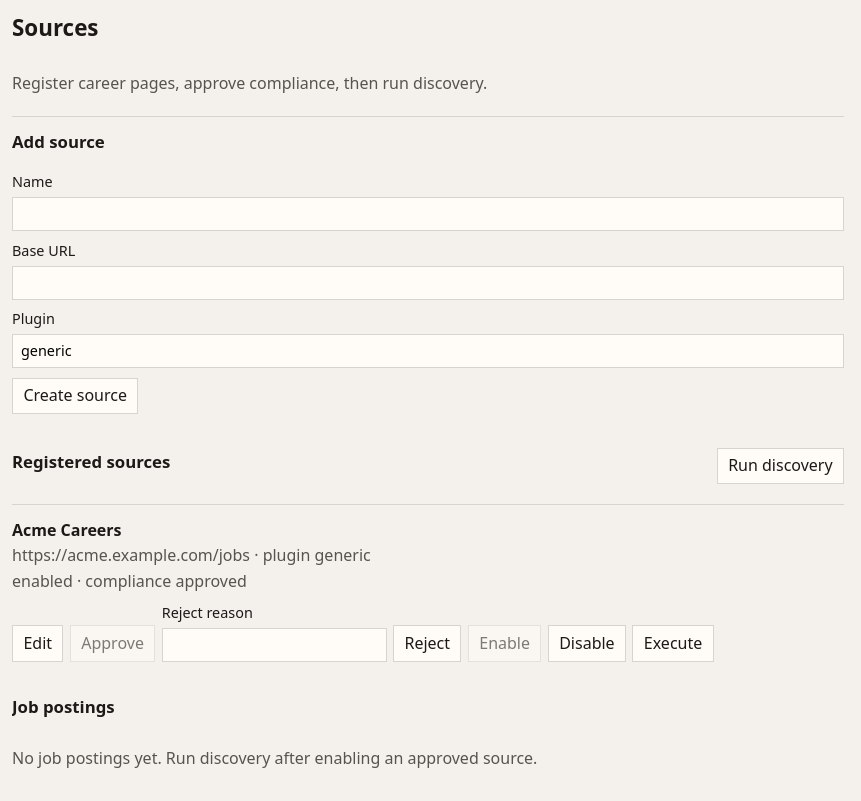
Test: SourcesPage › shows crawl outcome and error when execute returns both
Expected: the text "Acme Careers" is shown, x1=12 y1=519 x2=122 y2=541
Click the button "Execute": (673, 643) x1=632 y1=625 x2=714 y2=662
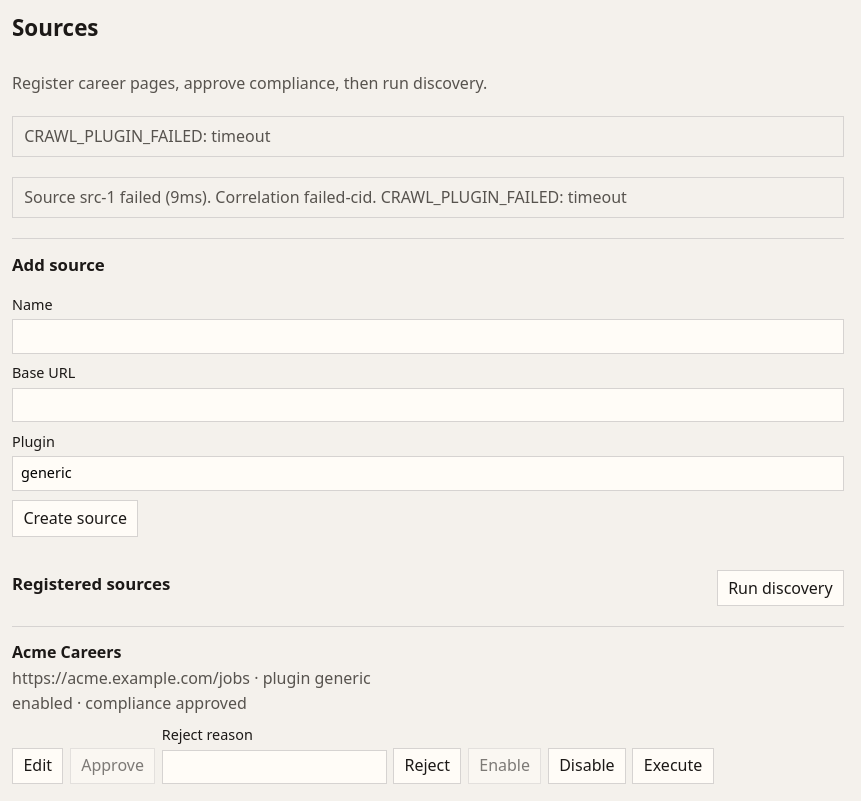
Now the text "Correlation failed-cid" is shown, box x1=24 y1=186 x2=627 y2=208
Now the message shows "CRAWL_PLUGIN_FAILED", box x1=24 y1=125 x2=270 y2=147
